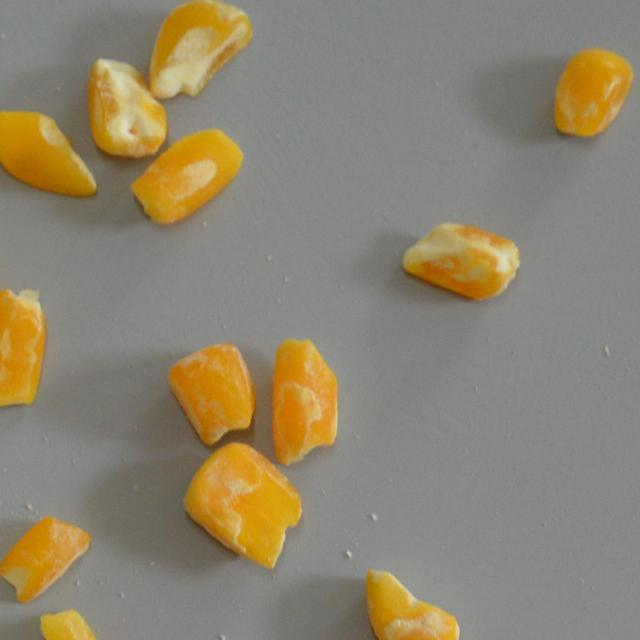dañado: (178, 436, 307, 575), (128, 123, 245, 229), (144, 0, 256, 102), (399, 219, 525, 302), (166, 338, 259, 448), (268, 331, 342, 468), (0, 106, 104, 201), (0, 508, 93, 609), (84, 54, 172, 159), (552, 42, 635, 146), (360, 561, 464, 640), (0, 278, 48, 411)
pelicula: (34, 602, 130, 640)
